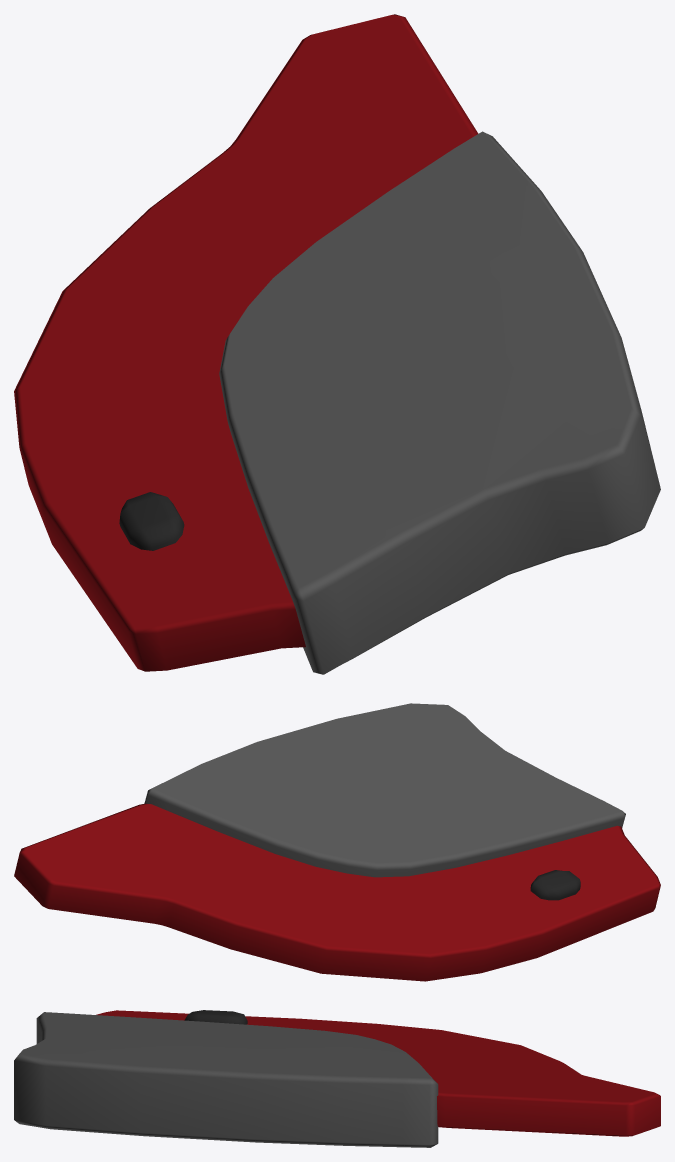
The model's file is Ship_enemy_10_Wing_R.fbx.
The picture shows the model from 3 angles, top to bottom: view 1: azimuth 30°, elevation 25°; view 2: azimuth 150°, elevation 25°; view 3: azimuth 270°, elevation 25°; orthographic projection. The views are drawn at different scales.
Visible parts, largest first — view 1: Ship_enemy_10_Wing_R; view 2: Ship_enemy_10_Wing_R; view 3: Ship_enemy_10_Wing_R.
Part boxes in pixels (x1,y1,x2,y2): Ship_enemy_10_Wing_R: (14, 14, 660, 674); Ship_enemy_10_Wing_R: (14, 703, 660, 981); Ship_enemy_10_Wing_R: (14, 1010, 660, 1147).
Bounding box in the file's own units: 160 × 53.04 × 201.
